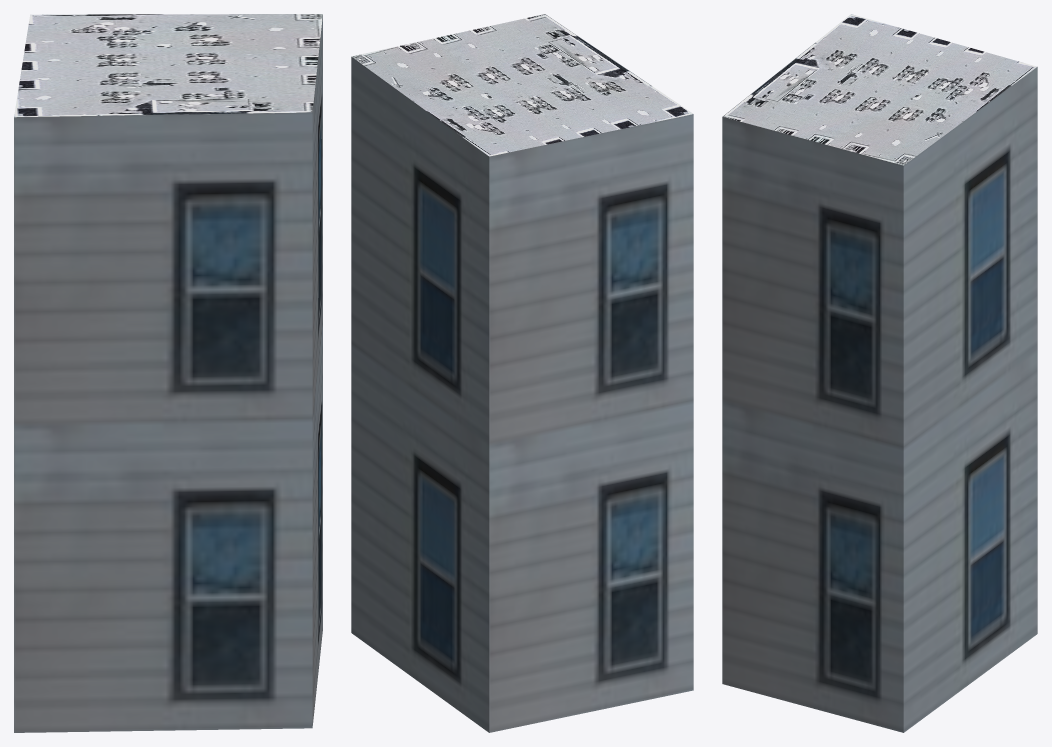
Rendered from ResTex__987.fbx.
3 views of the same model, side by side, from view 1: azimuth 30°, elevation 25°; view 2: azimuth 150°, elevation 25°; view 3: azimuth 270°, elevation 25° (orthographic). The views are drawn at different scales.
Parts seen in each view (by area): view 1: CityEngineMaterial_18_m, CityEngineMaterial_2_m; view 2: CityEngineMaterial_18_m, CityEngineMaterial_2_m; view 3: CityEngineMaterial_18_m, CityEngineMaterial_2_m.
Boxes of the visible parts, x1,y1,x2,y2 form: CityEngineMaterial_18_m: [14, 15, 322, 732]; CityEngineMaterial_2_m: [14, 14, 322, 117]; CityEngineMaterial_18_m: [351, 57, 693, 732]; CityEngineMaterial_2_m: [351, 14, 692, 156]; CityEngineMaterial_18_m: [722, 67, 1037, 732]; CityEngineMaterial_2_m: [722, 14, 1036, 165].
Bounding box in the file's own units: 3.44 × 6 × 3.02.
Materials: 2 (2 with a texture image).
